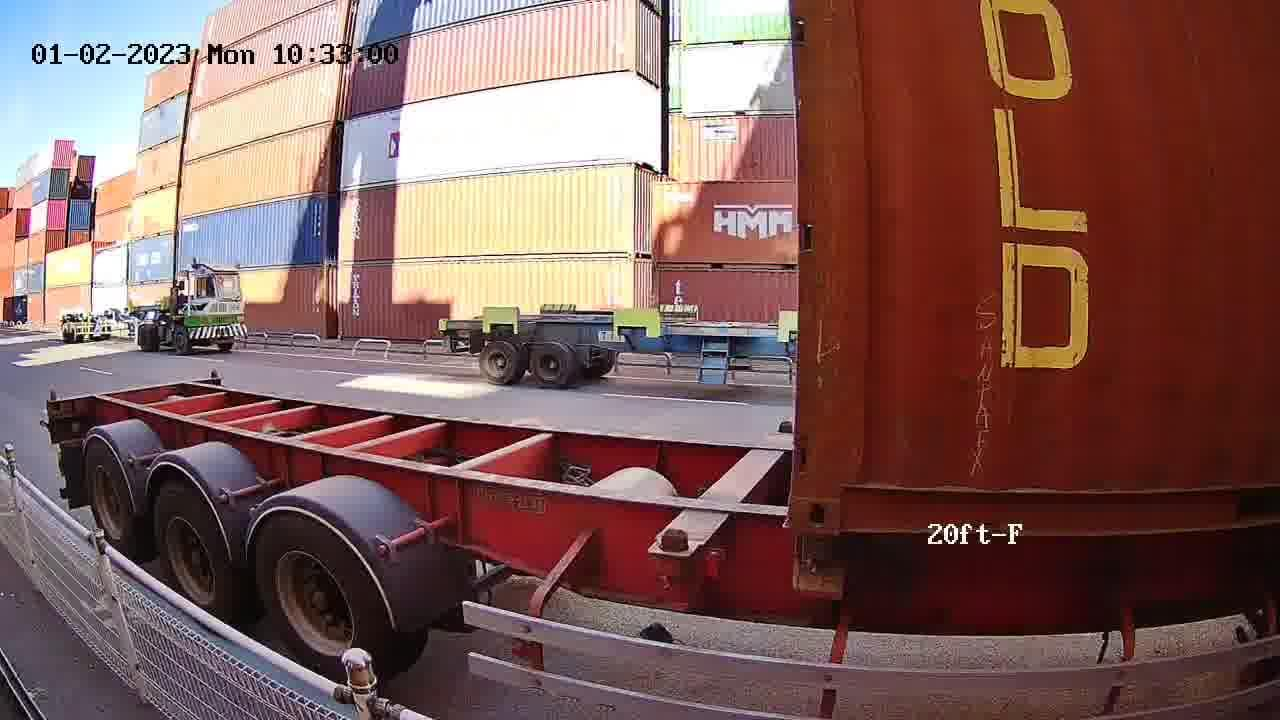Cone: (792, 533, 849, 596)
Hole_L: (788, 454, 892, 533)
Tire: (252, 514, 390, 689), (155, 485, 231, 621), (84, 444, 136, 555)
